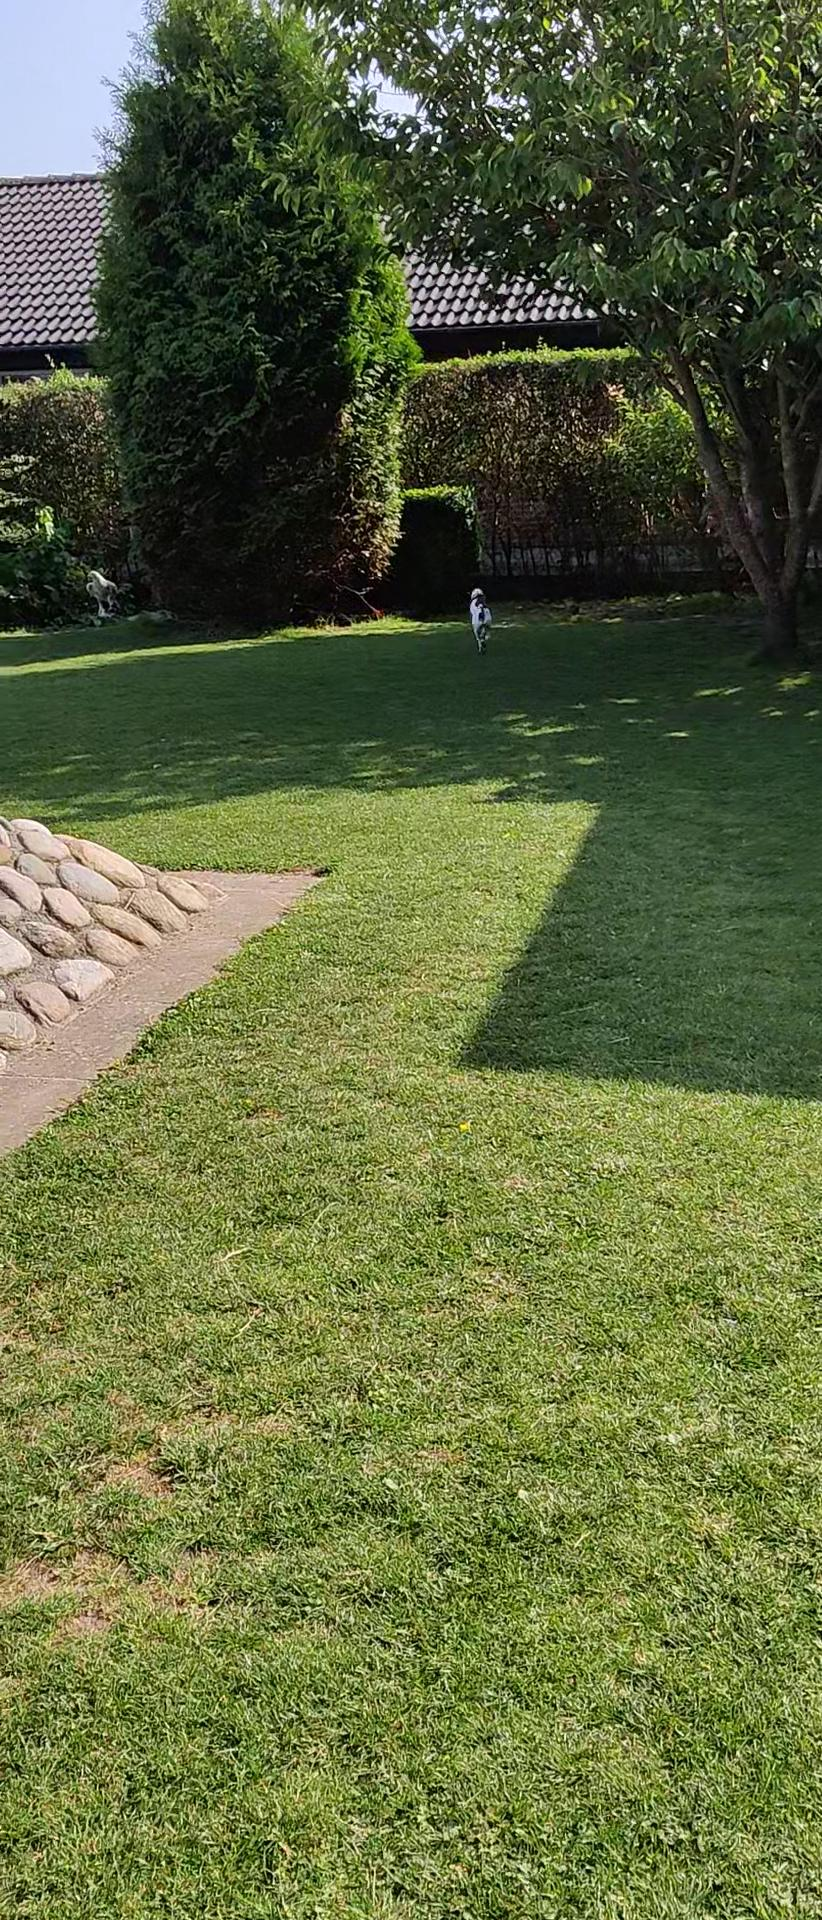Dog: (458, 577, 495, 658)
